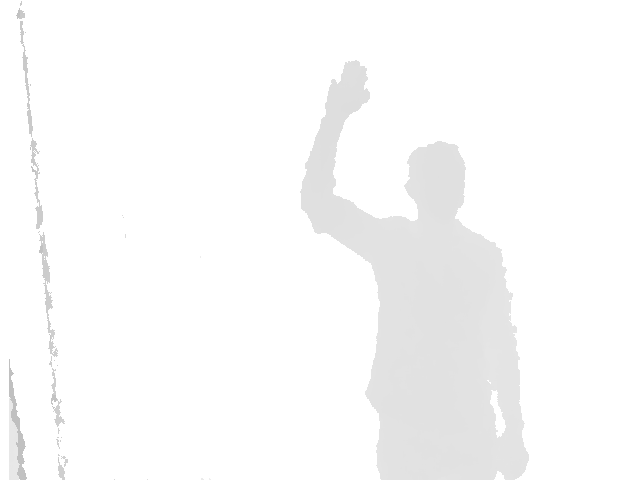hand: (324, 60, 371, 122)
hand_down: (491, 434, 531, 478)
head: (403, 140, 467, 220)
person: (299, 60, 532, 480)
